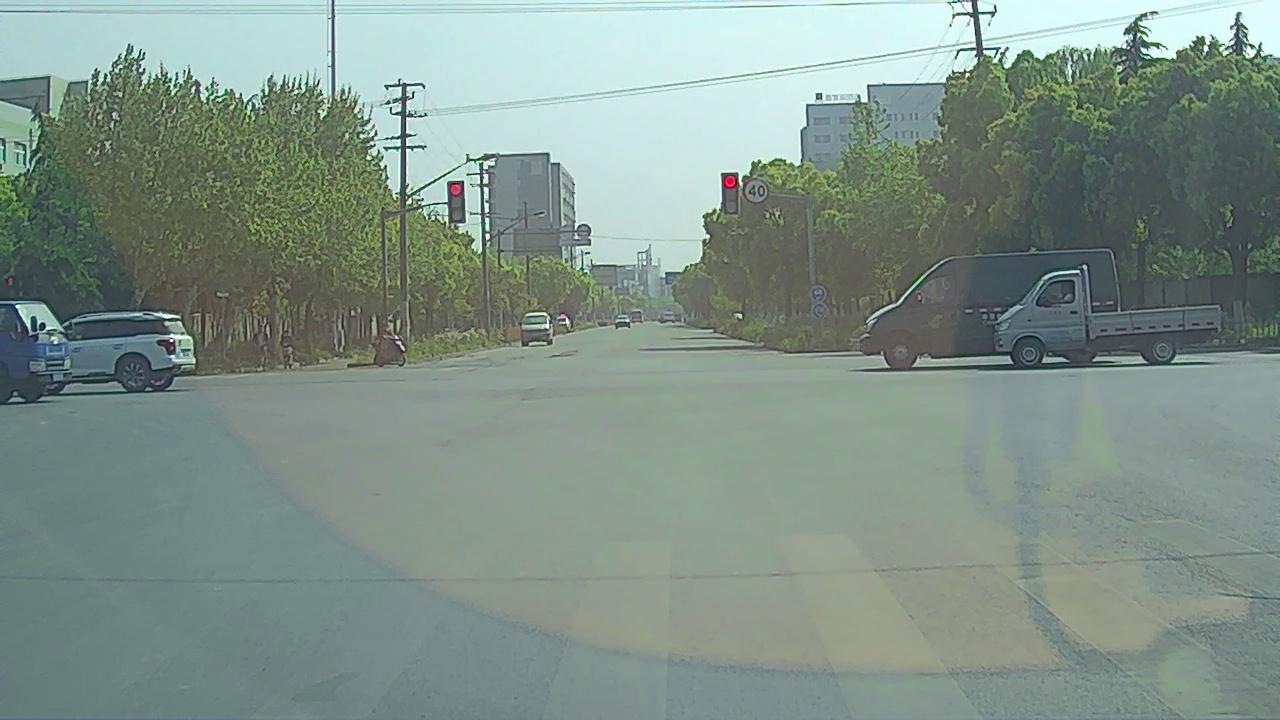traffic_light: (723, 173, 739, 214), (449, 182, 464, 222)
